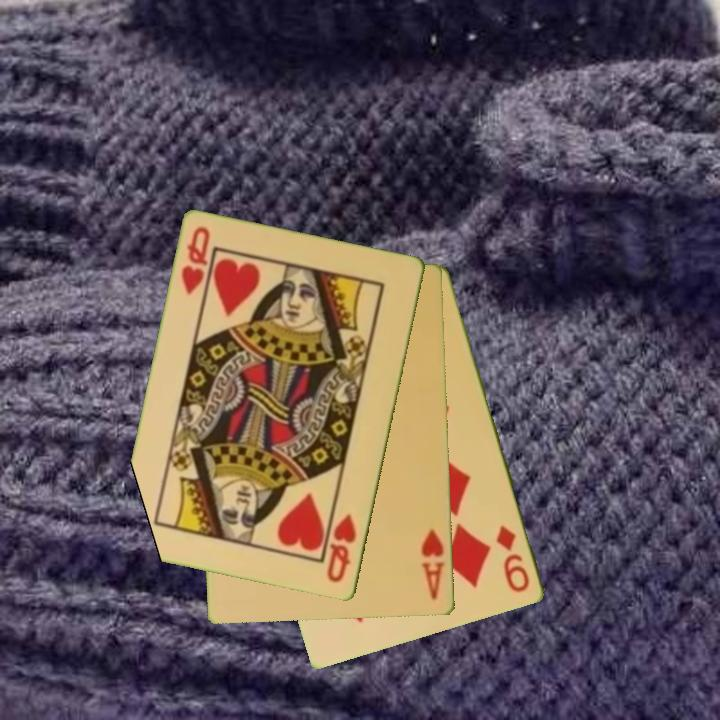9d: (493, 522, 533, 596)
Ah: (418, 526, 448, 604)
Qh: (323, 510, 360, 586), (178, 223, 213, 298)
